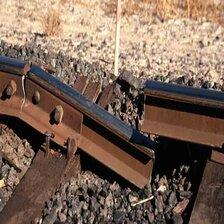railway-gap: (3, 55, 48, 113)
